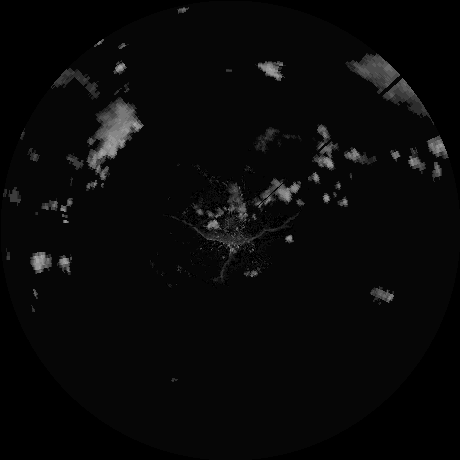frontgust: (188, 222, 290, 245)
